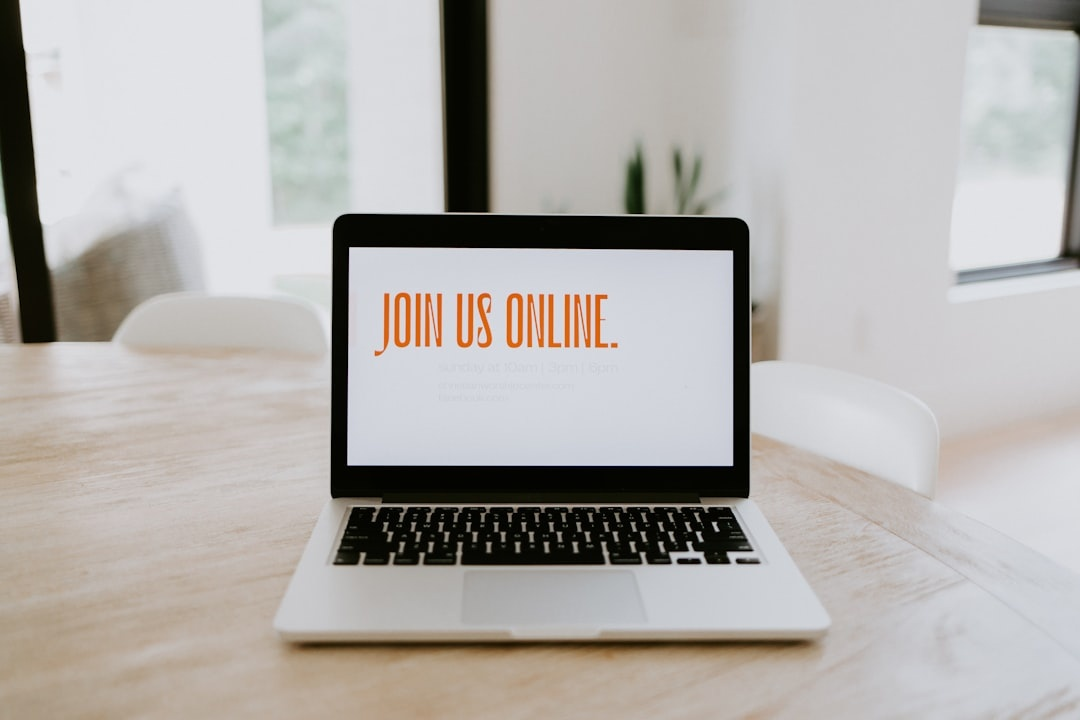laptop: (259, 160, 842, 666)
